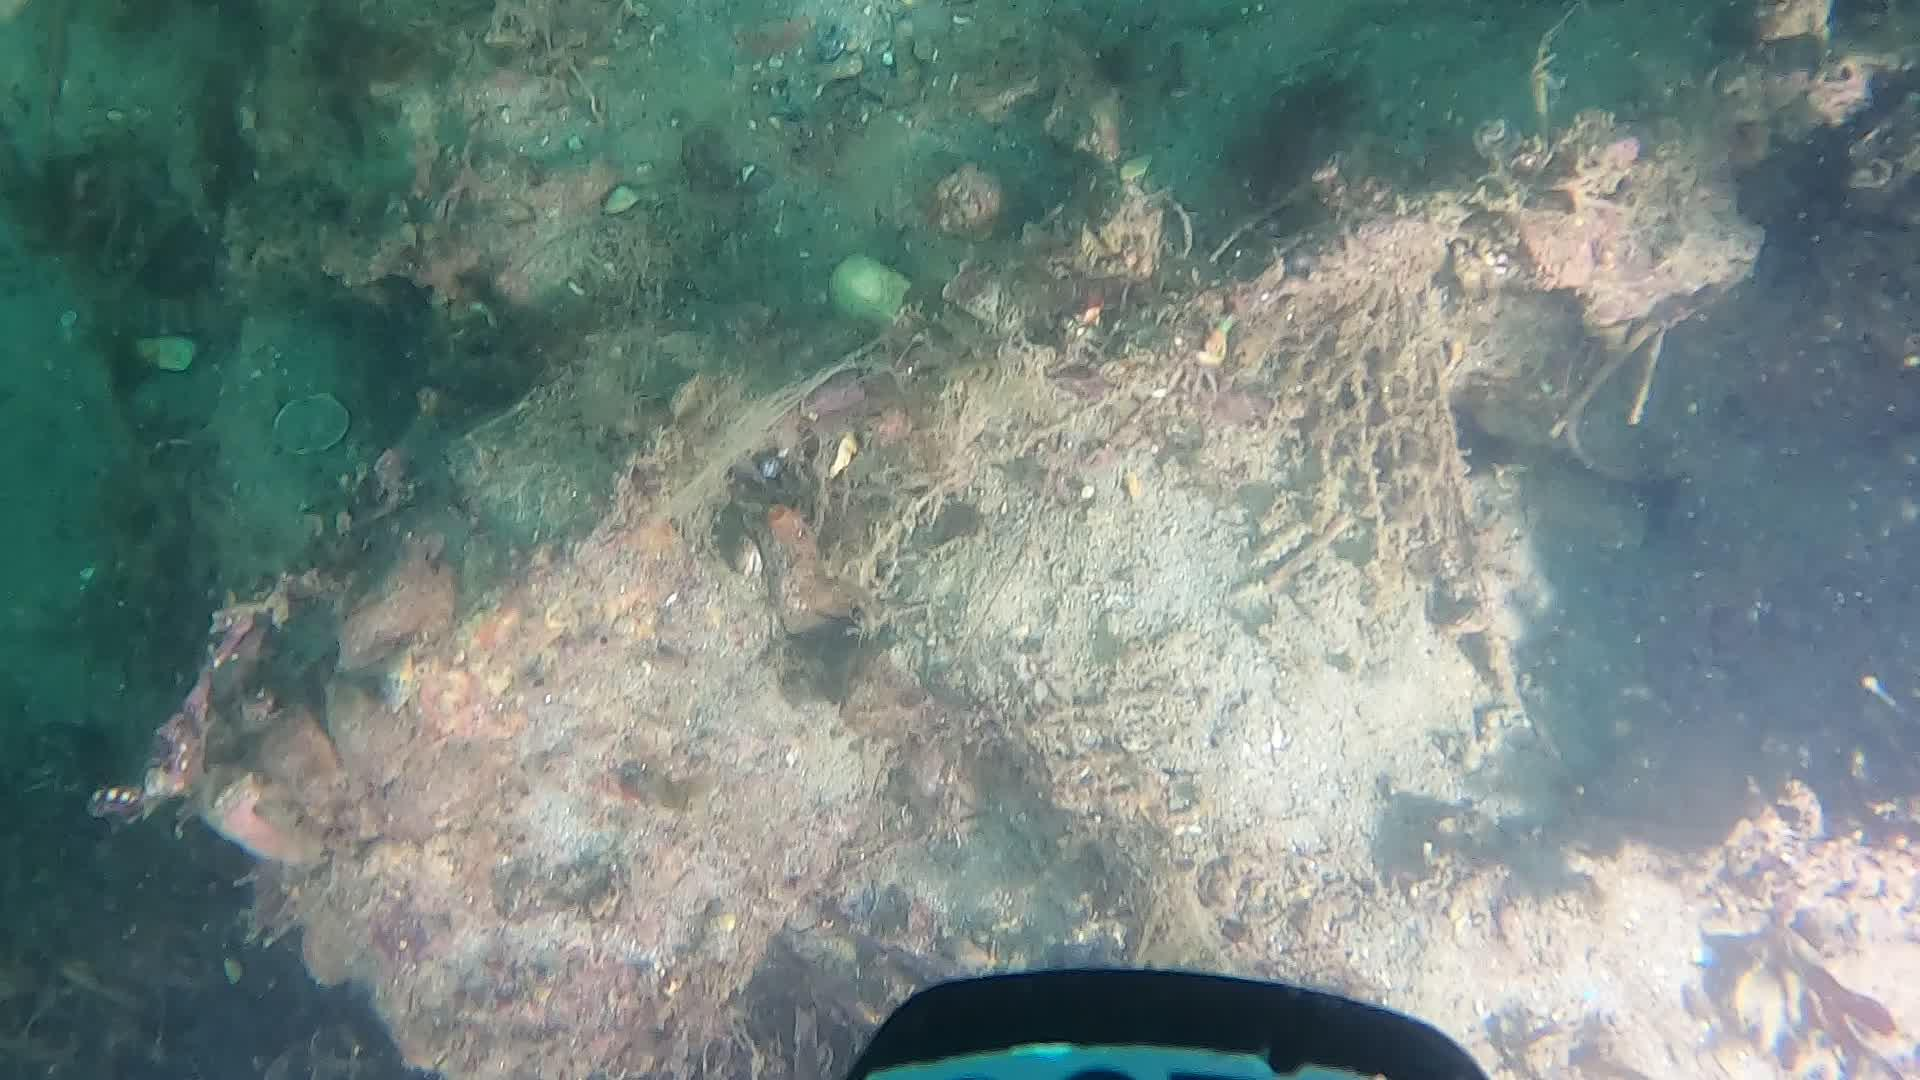other objects: (1278, 285, 1472, 545)
